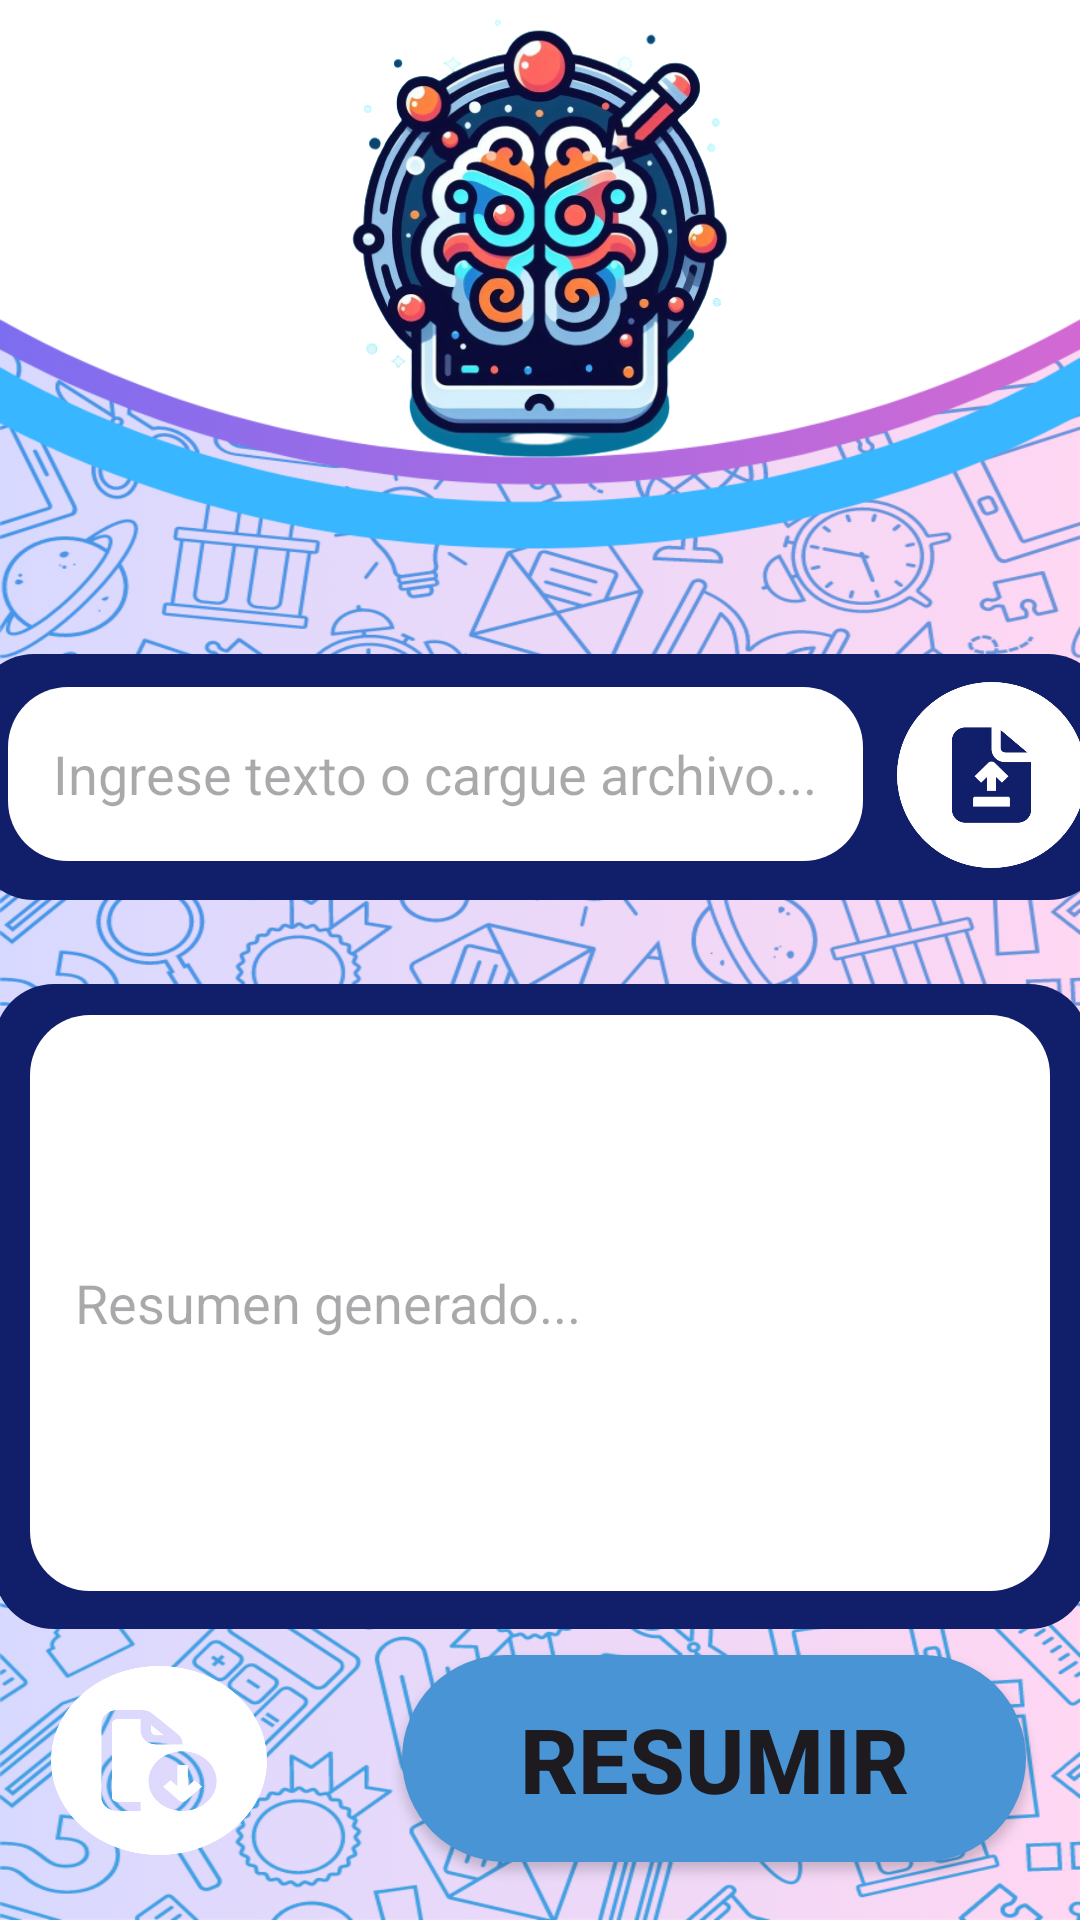

Icons on this 1080 × 1920 Android screen, each with the point to tap as point (x, y):
cargar archivo: point (988, 775)
